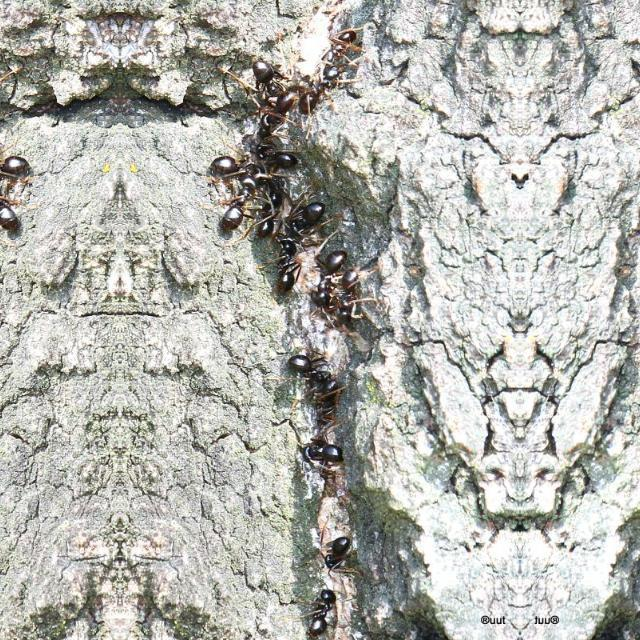Lasius: (274, 350, 346, 410), (271, 229, 319, 301), (335, 258, 375, 330), (308, 517, 360, 571), (280, 188, 334, 240), (308, 247, 346, 316), (260, 73, 304, 131), (300, 586, 352, 634), (296, 430, 344, 478), (256, 187, 290, 250), (216, 168, 248, 230), (202, 142, 246, 174), (270, 135, 304, 175), (0, 168, 22, 228), (0, 140, 36, 173)
